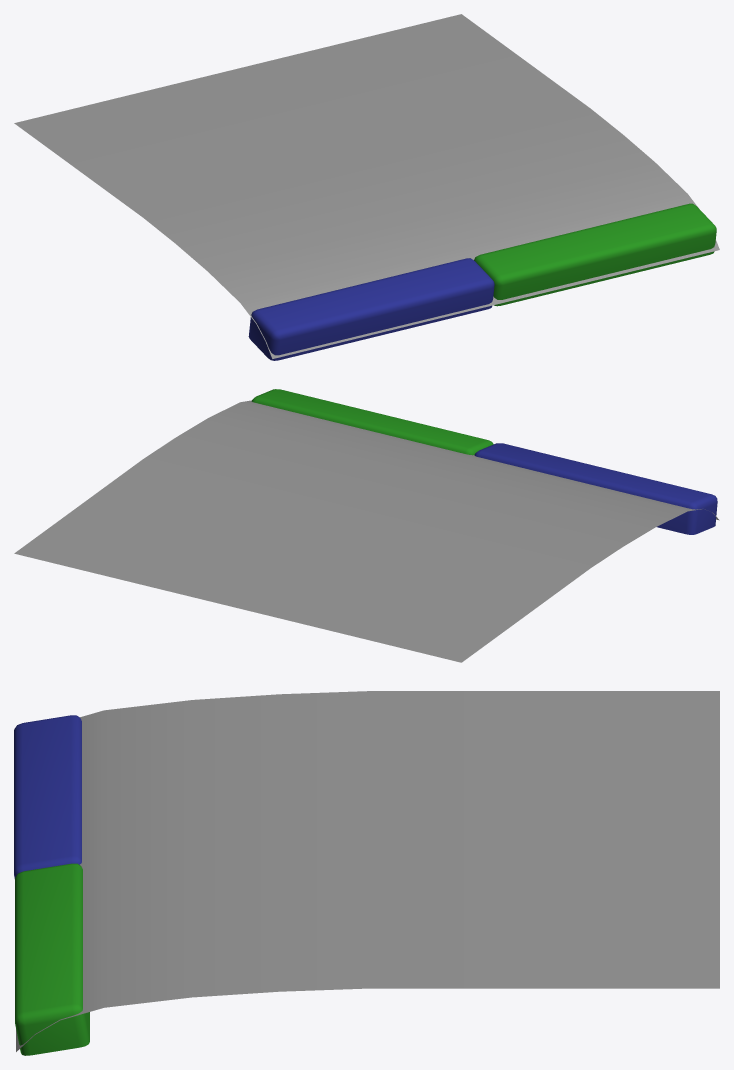
Rendered from bordur 1.FBX.
The picture shows the model from 3 angles, top to bottom: view 1: azimuth 30°, elevation 25°; view 2: azimuth 150°, elevation 25°; view 3: azimuth 270°, elevation 25°; orthographic projection. The views are drawn at different scales.
Parts seen in each view (by area): view 1: Plane206; view 2: Plane206; view 3: Plane206.
Boxes of the visible parts, left/top/right/bottom form: Plane206: left=14, top=14, right=719, bottom=360; Plane206: left=14, top=389, right=719, bottom=662; Plane206: left=14, top=691, right=719, bottom=1055.
Size of the model in its own units: 4 by 0.4347 by 4.01.
